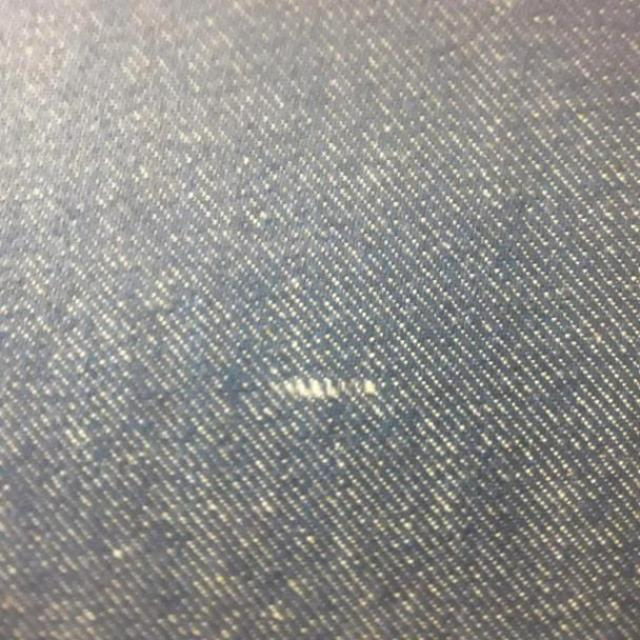Knot: (271, 378, 379, 401)
